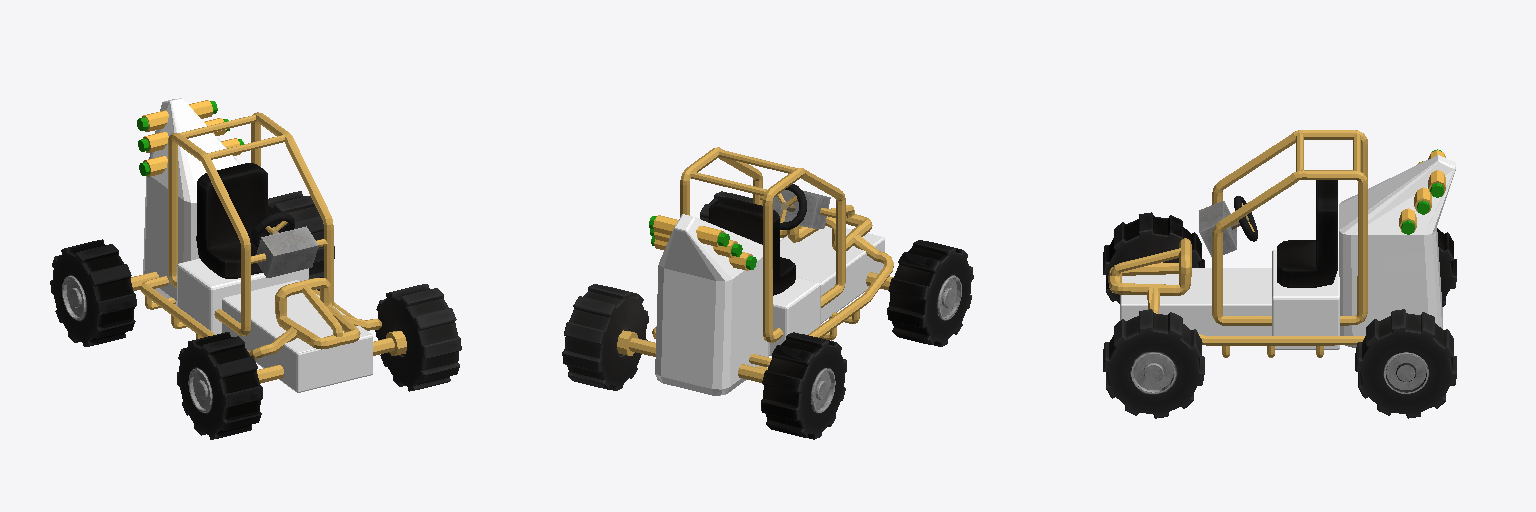
3 views of the same model, side by side, from view 1: azimuth 30°, elevation 25°; view 2: azimuth 150°, elevation 25°; view 3: azimuth 270°, elevation 25° (orthographic).
Visible parts, largest first — view 1: __pCylinder23; view 2: __pCylinder23; view 3: __pCylinder23.
Boxes of the visible parts, box(x1,y1,x2,y2) form: __pCylinder23: box(50, 98, 461, 439); __pCylinder23: box(562, 147, 973, 439); __pCylinder23: box(1103, 130, 1456, 418).
Bounding box in the file's own units: 0.048 × 0.0405 × 0.0615.
Materials: 1 (1 with a texture image).